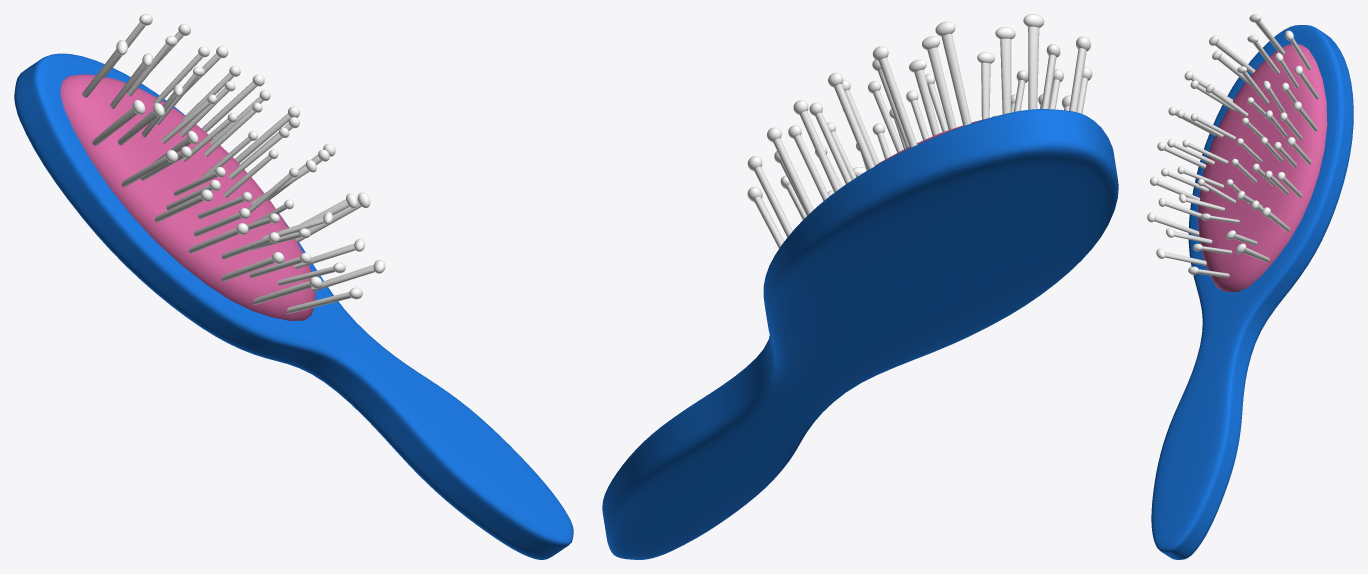
The model's file is hairbrush-3d-animated-icon-41007027643.glb.
The picture shows the model from 3 angles, left to right: view 1: azimuth 30°, elevation 25°; view 2: azimuth 150°, elevation 25°; view 3: azimuth 270°, elevation 25°; orthographic projection. The views are drawn at different scales.
Visible parts, largest first — view 1: Plane.028, Plane.029; view 2: Plane.028, Plane.029; view 3: Plane.028, Plane.029.
Boxes of the visible parts, box(x1,y1,x2,y2) form: Plane.028: box(14, 53, 573, 559); Plane.029: box(60, 14, 385, 320); Plane.028: box(602, 109, 1118, 559); Plane.029: box(747, 14, 1092, 248); Plane.028: box(1151, 25, 1353, 559); Plane.029: box(1147, 14, 1327, 291).
Size of the model in its own units: 4.04 by 4.63 by 2.1.
